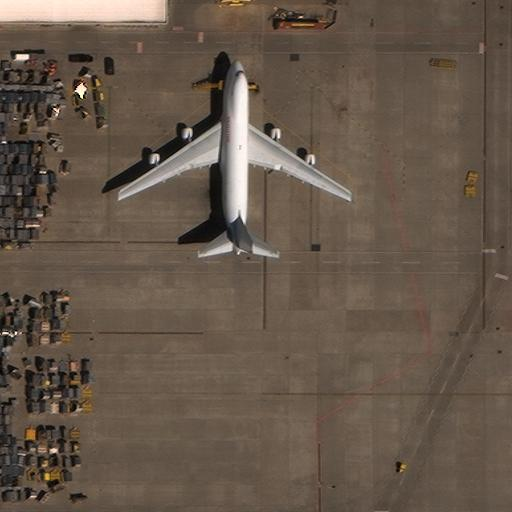Large Civil Transport: (117, 59, 352, 256)
